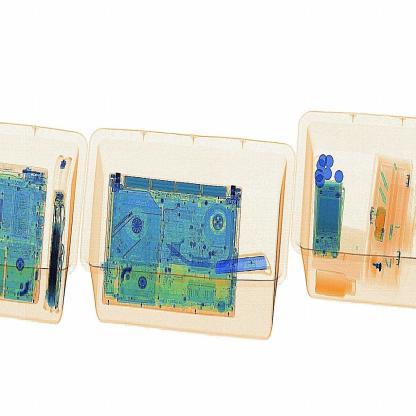pliers: (211, 248, 277, 282)
